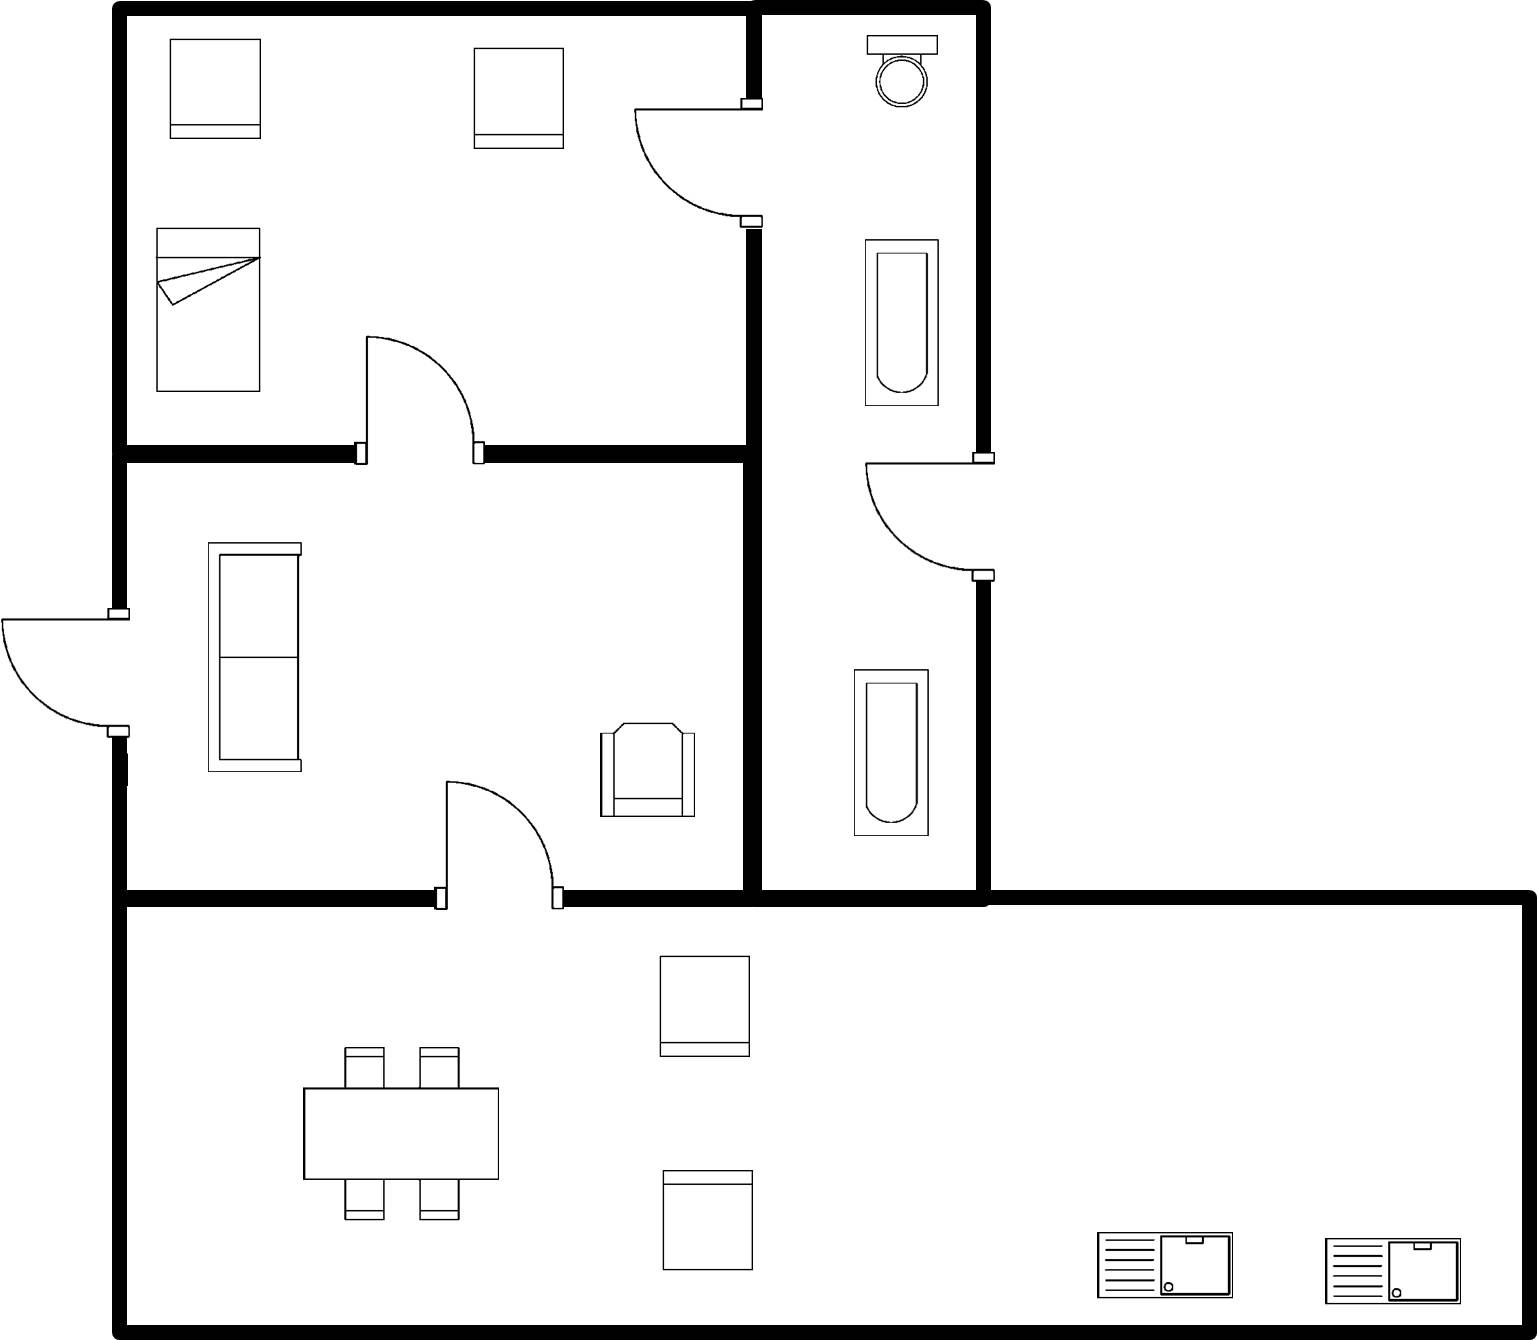armchair: (582, 712, 707, 829)
bed: (150, 220, 271, 402)
dining_table: (289, 1038, 511, 1229)
large_sink: (856, 24, 944, 116)
large_sofa: (193, 528, 315, 782)
sink: (1314, 1226, 1472, 1313), (1088, 1222, 1241, 1308)
small_sofa: (642, 948, 763, 1068), (460, 35, 575, 159), (585, 712, 707, 828), (651, 1160, 764, 1278), (160, 29, 271, 148)
tub: (853, 230, 950, 416), (842, 660, 934, 844)
